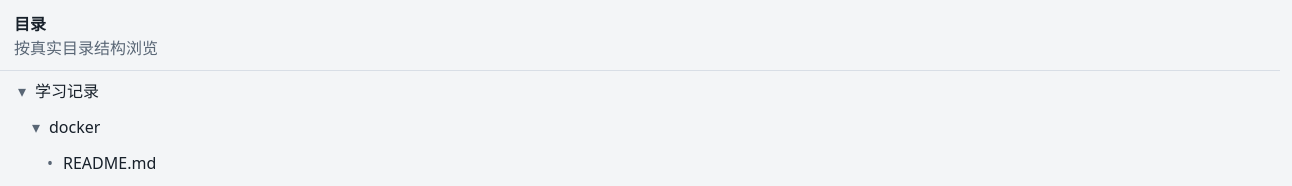
Scenario: DirectoryTree › keeps collapsed directories collapsed when the tree object refreshes
The width and height of the screenshot is (1292, 186).
Click the button named "折叠 学习记录" at (22, 91), box x1=11 y1=76 x2=33 y2=106
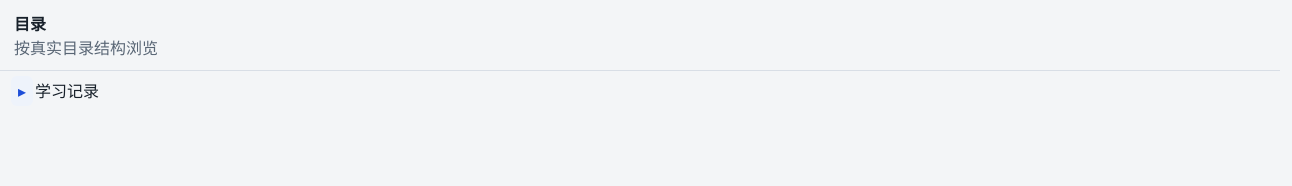
Check: the button "README.md" is gone
